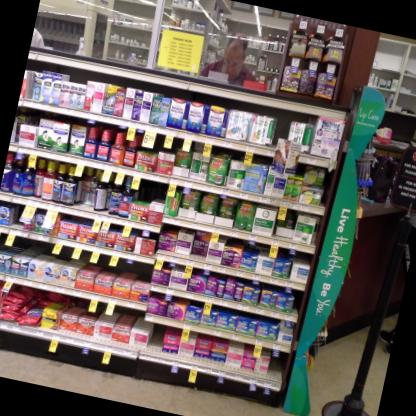empty_space: (268, 353, 287, 386), (148, 327, 165, 359), (12, 208, 22, 230)
